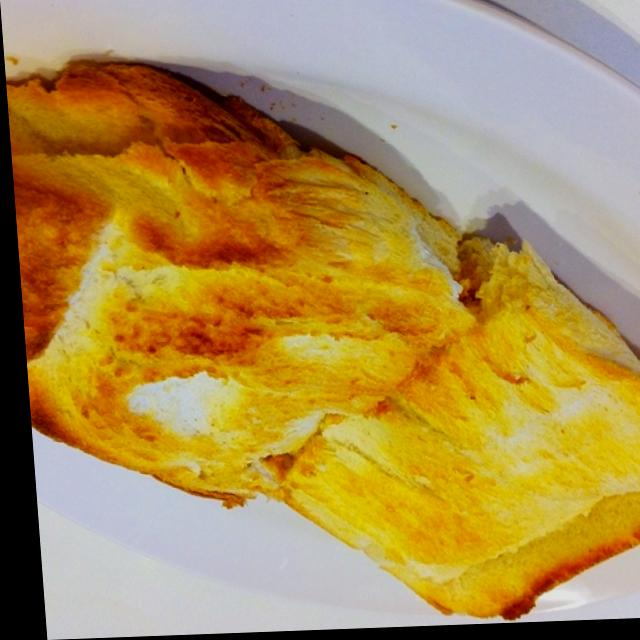面包点心: (1, 0, 640, 612)
